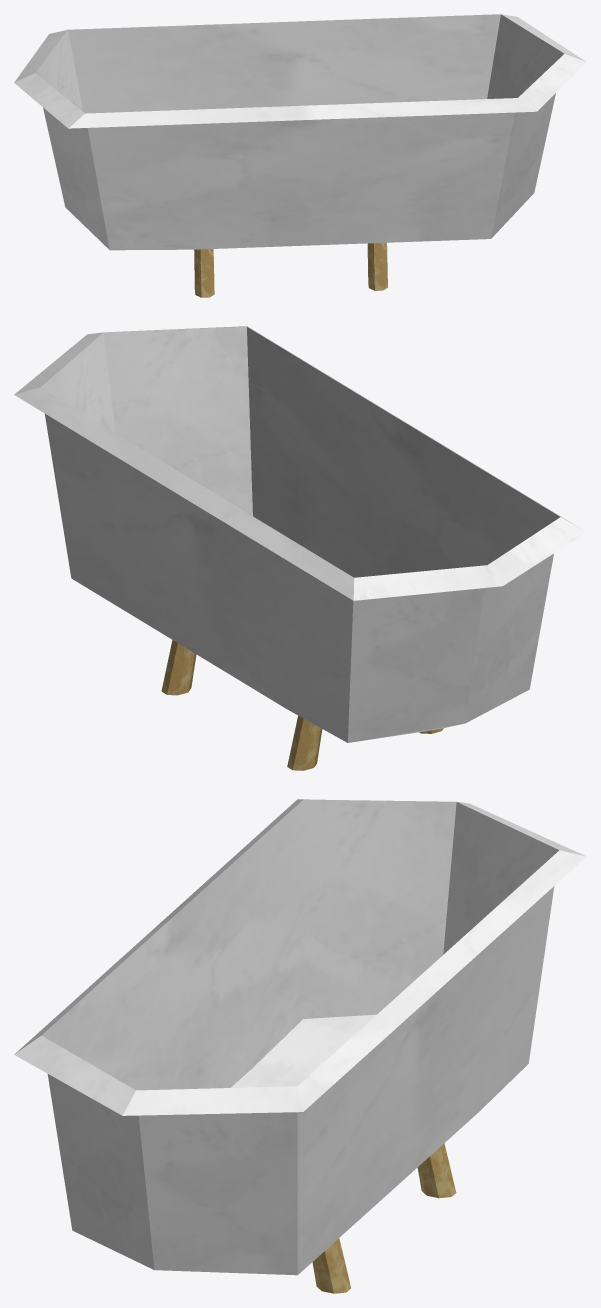
File: MKU_bathroom_bathtub_fin.fbx
The picture shows the model from 3 angles, top to bottom: view 1: azimuth 30°, elevation 25°; view 2: azimuth 150°, elevation 25°; view 3: azimuth 270°, elevation 25°; orthographic projection. The views are drawn at different scales.
Parts seen in each view (by area): view 1: bath tub; view 2: bath tub; view 3: bath tub.
Boxes of the visible parts, <box> form: bath tub: <box>14,14,586,297</box>; bath tub: <box>14,326,586,770</box>; bath tub: <box>14,799,586,1293</box>.
Bounding box in the file's own units: 510 × 214 × 390.
